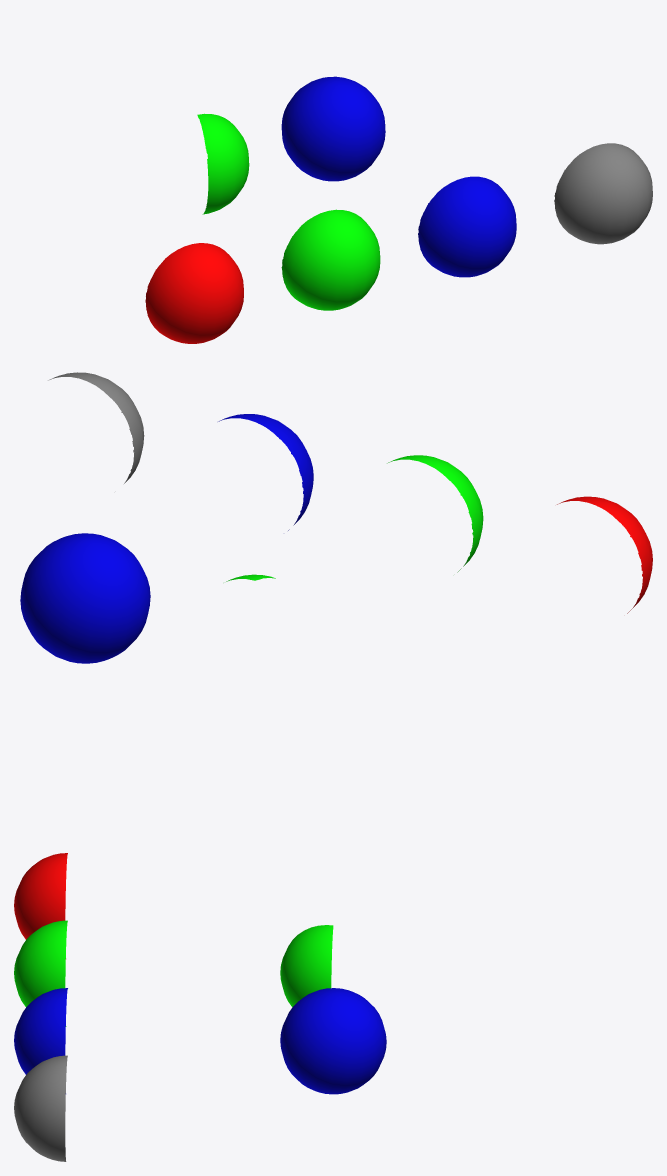
File: TransparencyMode_Mask.gltf
3 renders of one model, top to bottom at view 1: azimuth 30°, elevation 25°; view 2: azimuth 150°, elevation 25°; view 3: azimuth 270°, elevation 25°, orthographic. The views are drawn at different scales.
Parts seen in each view (by area): view 1: pSphere5, pSphere3, pSphere2, pSphere4, pSphere1, pSphere7; view 2: pSphere5, pSphere1, pSphere2, pSphere3, pSphere4; view 3: pSphere5, pSphere4, pSphere2, pSphere1, pSphere3, pSphere7.
Boxes of the visible parts, x1,y1,x2,y2 form: pSphere5: (281,76,385,181); pSphere3: (418,176,516,277); pSphere2: (281,209,380,310); pSphere4: (554,143,652,244); pSphere1: (145,243,243,343); pSphere7: (197,113,249,214); pSphere5: (20,533,150,663); pSphere1: (557,496,652,613); pSphere2: (387,455,483,572); pSphere3: (218,414,313,530); pSphere4: (48,372,144,483); pSphere5: (280,988,386,1094); pSphere4: (14,1055,67,1161); pSphere2: (14,920,67,1026); pSphere1: (14,853,67,939); pSphere3: (14,988,67,1074); pSphere7: (280,925,333,1007).
Size of the model in its own units: 11 by 2 by 12.
Materials: 7 (7 with a texture image).
